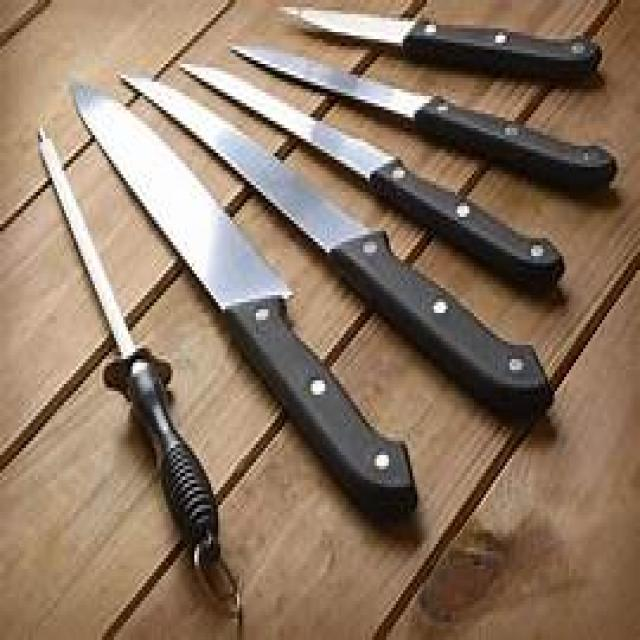Knife: (71, 85, 412, 508), (123, 75, 550, 409), (185, 64, 562, 281), (232, 46, 614, 188), (280, 7, 600, 78)
